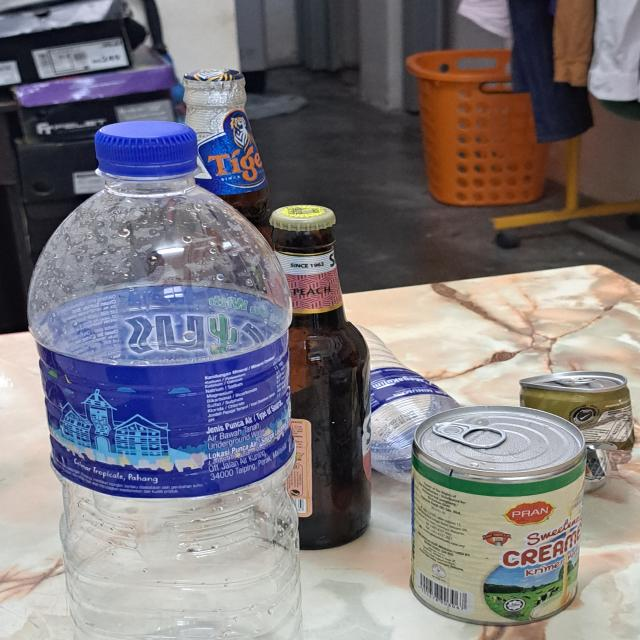can: (411, 405, 588, 627), (519, 370, 640, 494)
glass bottle: (272, 204, 370, 550), (183, 70, 276, 246)
plastic bottle: (24, 175, 301, 640), (348, 326, 460, 484)
plastic bottle cap: (96, 118, 198, 176)
pop tab: (432, 421, 506, 449), (556, 376, 596, 385)
